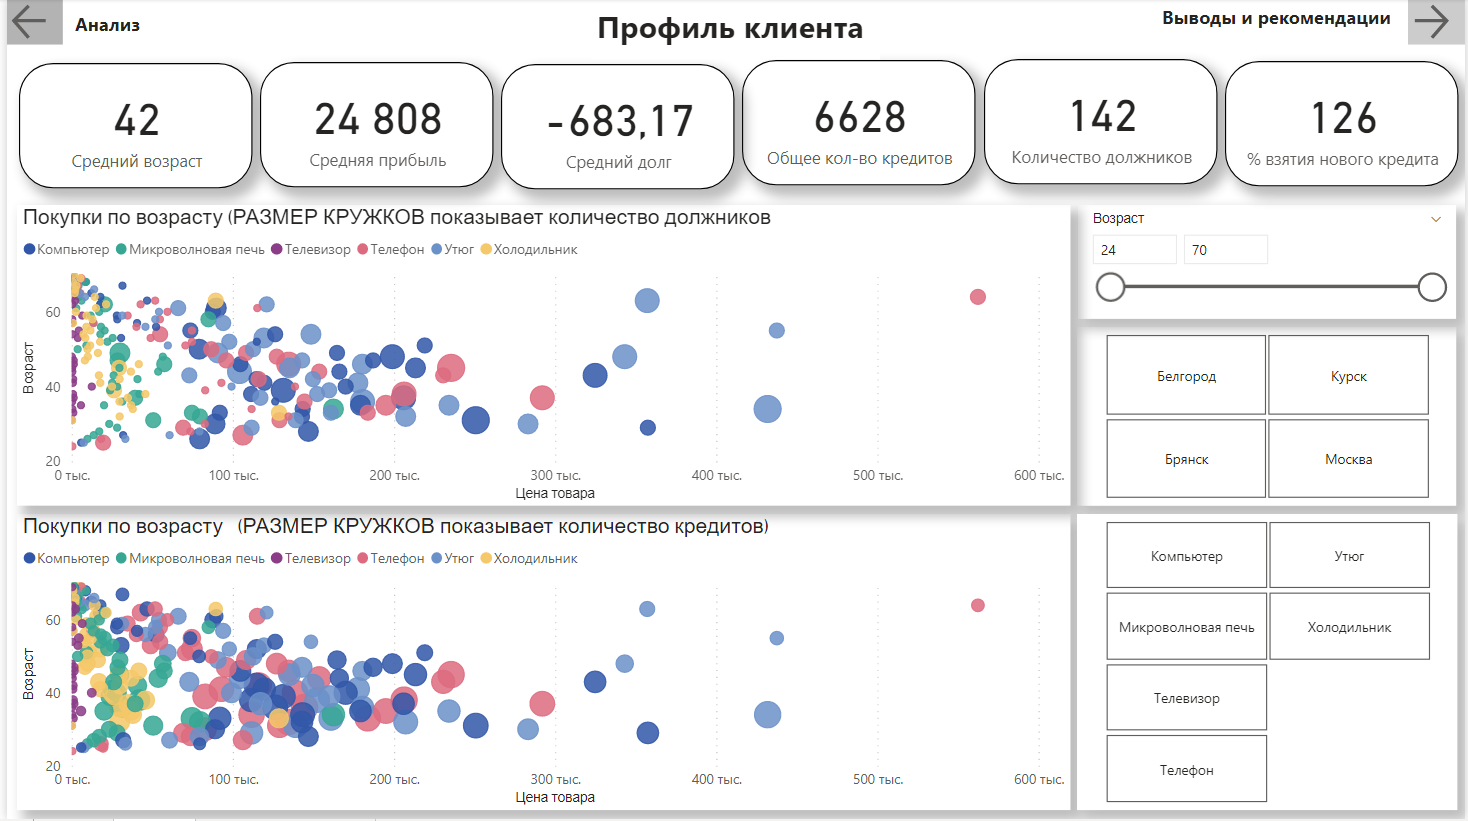

This screenshot's page, from the dashboard's own definition file:
{"tool":"powerbi","page":{"name":"Клиент","canvas":[1280,720],"ordinal":1},"visuals":[{"type":"slicer","fields":{"Values":["БД.Город проживания"]},"box":[939.5,288,332.8,157.2],"z":0},{"type":"card","fields":{"Values":["Avg(БД.Возраст лет)"]},"box":[10.5,56.2,204.6,109.8],"z":1000},{"type":"card","fields":{"Values":["CountNonNull(БД.Купленный товар)"]},"box":[645.5,53.6,205.5,109.8],"z":2000},{"type":"scatterChart","title":"Покупки по возрасту   (РАЗМЕР КРУЖКОВ показывает количество кредитов)","fields":{"X":["Sum(БД.Цена товара)"],"Series":["БД.Купленный товар"],"Y":["БД.Возраст лет"],"Size":["CountNonNull(БД.ID клиента)"]},"box":[8.8,452.2,924.6,259.9],"z":3000},{"type":"slicer","fields":{"Values":["БД.Возраст лет"]},"box":[940.4,180.9,331.9,100.1],"z":4000},{"type":"scatterChart","title":"Покупки по возрасту     (РАЗМЕР КРУЖКОВ показывает количество должников","fields":{"X":["Sum(БД.Цена товара)"],"Series":["БД.Купленный товар"],"Y":["БД.Возраст лет"],"Size":["БД.Количество Убыток минус Максимум Убыток"]},"box":[8.8,180.9,924.6,264.3],"z":5000},{"type":"card","fields":{"Values":["БД.Количество Убыток минус Максимум Убыток"]},"box":[857.9,52.7,204.6,109.8],"z":6000},{"type":"card","fields":{"Values":["БД.% взятия нового кредита"]},"box":[1069.5,54.4,205.5,109.8],"z":7000},{"type":"card","fields":{"Values":["Avg(БД.Прибыль)"]},"box":[222.1,55.3,205,109.8],"z":8000},{"type":"slicer","fields":{"Values":["БД.Купленный товар"]},"box":[939.5,452.2,333.7,259.9],"z":9000},{"type":"card","fields":{"Values":["Avg(БД.Убыток)"]},"box":[434,57.1,204.6,109.8],"z":10000},{"type":"actionButton","box":[0,0,49.2,40.4],"z":11000},{"type":"textbox","box":[513.1,0,253.8,52.7],"z":12000},{"type":"textbox","box":[49.2,6.1,78.1,40.4],"z":13000},{"type":"actionButton","box":[1230,0,50,40.4],"z":14000},{"type":"textbox","box":[999.2,0,230.9,40.4],"z":15000}]}

Visuals, with their boxes in screenshot pixels (x1, y1, x2, y2), scaled from the page's 1280x720 canvas onto the 1468x821 screenshot:
slicer - БД.Город проживания: {"x1": 1077, "y1": 328, "x2": 1459, "y2": 508}
card - Avg(БД.Возраст лет): {"x1": 12, "y1": 64, "x2": 247, "y2": 189}
card - CountNonNull(БД.Купленный товар): {"x1": 740, "y1": 61, "x2": 976, "y2": 186}
"Покупки по возрасту   (РАЗМЕР КРУЖКОВ показывает количество кредитов)" scatterChart: {"x1": 10, "y1": 516, "x2": 1070, "y2": 812}
slicer - БД.Возраст лет: {"x1": 1079, "y1": 206, "x2": 1459, "y2": 320}
"Покупки по возрасту     (РАЗМЕР КРУЖКОВ показывает количество должников" scatterChart: {"x1": 10, "y1": 206, "x2": 1070, "y2": 508}
card - БД.Количество Убыток минус Максимум Убыток: {"x1": 984, "y1": 60, "x2": 1219, "y2": 185}
card - БД.% взятия нового кредита: {"x1": 1227, "y1": 62, "x2": 1462, "y2": 187}
card - Avg(БД.Прибыль): {"x1": 255, "y1": 63, "x2": 490, "y2": 188}
slicer - БД.Купленный товар: {"x1": 1077, "y1": 516, "x2": 1460, "y2": 812}
card - Avg(БД.Убыток): {"x1": 498, "y1": 65, "x2": 732, "y2": 190}
actionButton: {"x1": 0, "y1": 0, "x2": 56, "y2": 46}
textbox: {"x1": 588, "y1": 0, "x2": 880, "y2": 60}
textbox: {"x1": 56, "y1": 7, "x2": 146, "y2": 53}
actionButton: {"x1": 1411, "y1": 0, "x2": 1467, "y2": 46}
textbox: {"x1": 1146, "y1": 0, "x2": 1411, "y2": 46}
